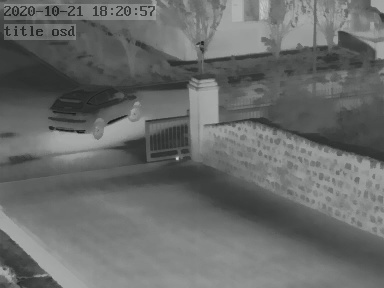vehicle: (40, 87, 140, 135)
